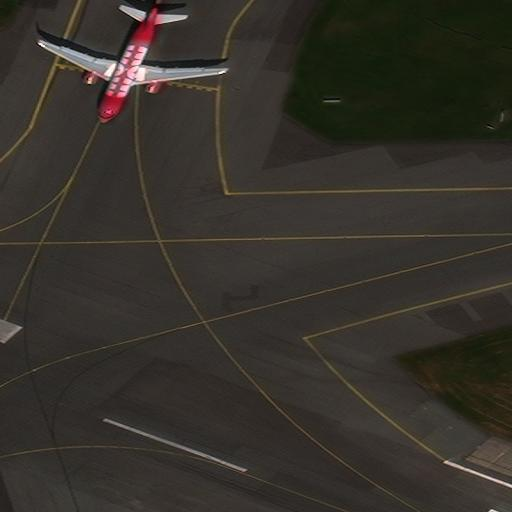Medium Civil Transport: (41, 0, 236, 124)
